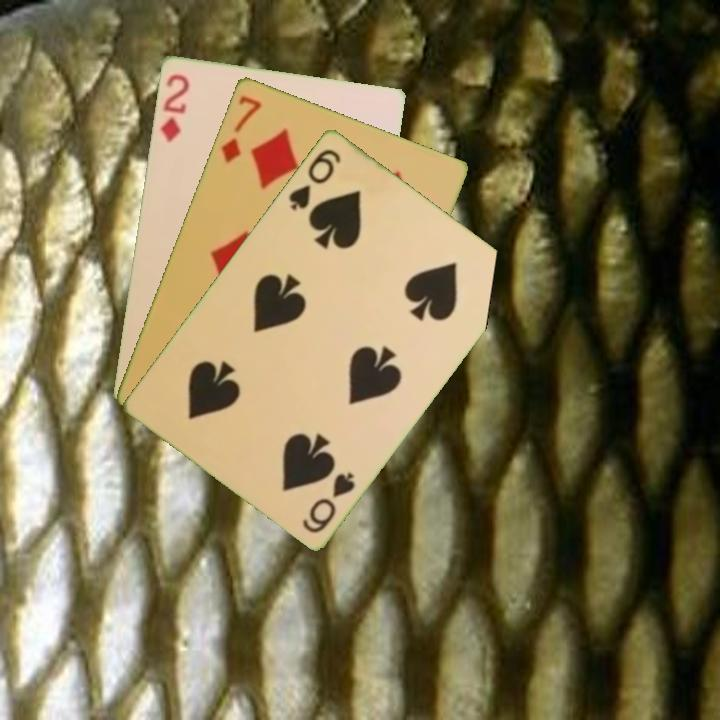2d: (157, 69, 192, 145)
6s: (298, 468, 358, 536), (285, 144, 344, 213)
7d: (217, 91, 265, 165)
